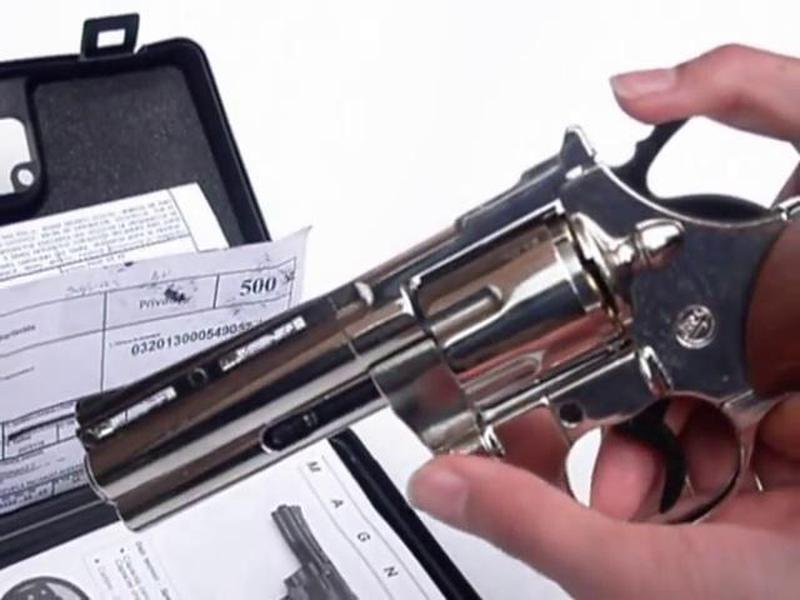Revolver: (78, 135, 800, 527)
